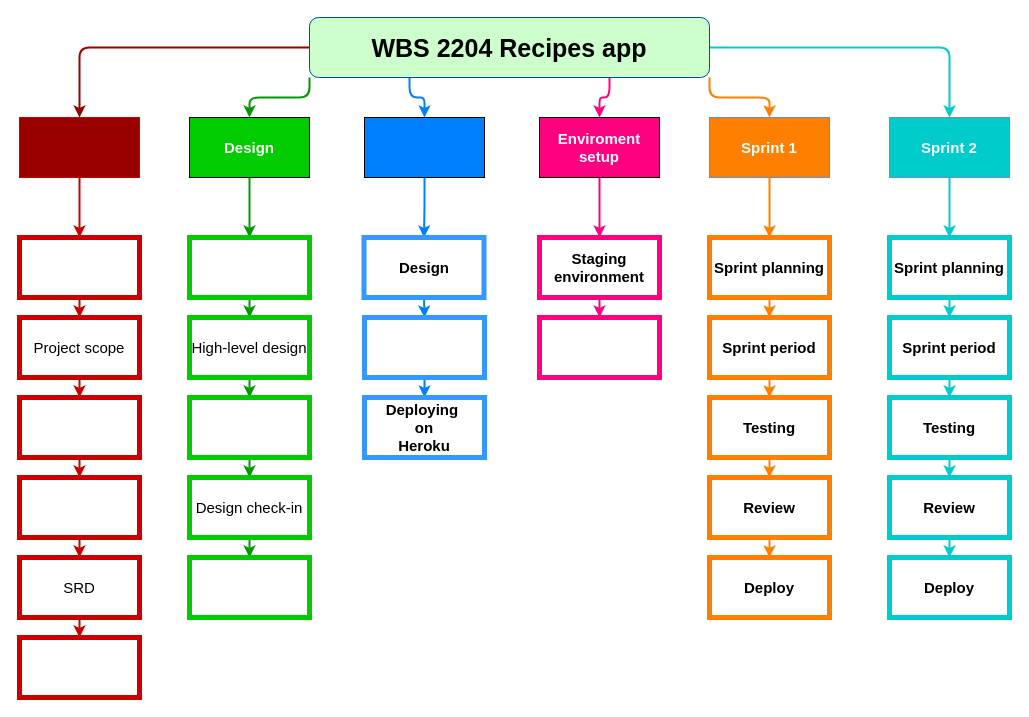
Some shapes in this 1029 by 717 pixel diagram are drawn without their labels. The shapes that lost their labels are listed below. From the top down, each one's centre as x and y in pixels, then its label:
At pixel 79 147: "Research".
At pixel 424 147: "Back-end setup".
At pixel 79 267: "Kickoff meeting".
At pixel 249 267: "Design planning".
At pixel 424 347: "Coding in Ruby".
At pixel 599 347: "Production environment".
At pixel 79 427: "User research".
At pixel 249 427: "Features design".
At pixel 79 507: "Gather requirements".
At pixel 249 587: "Deliver final design".
At pixel 79 667: "SPMP".
